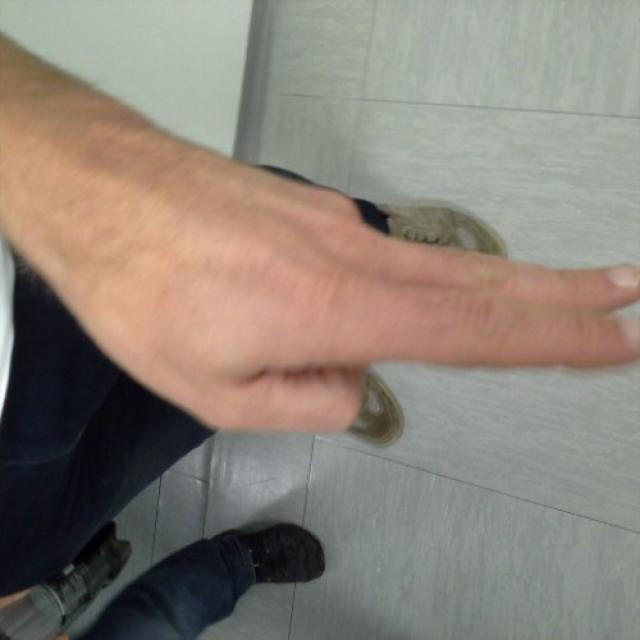scissors: (166, 166, 634, 432)
